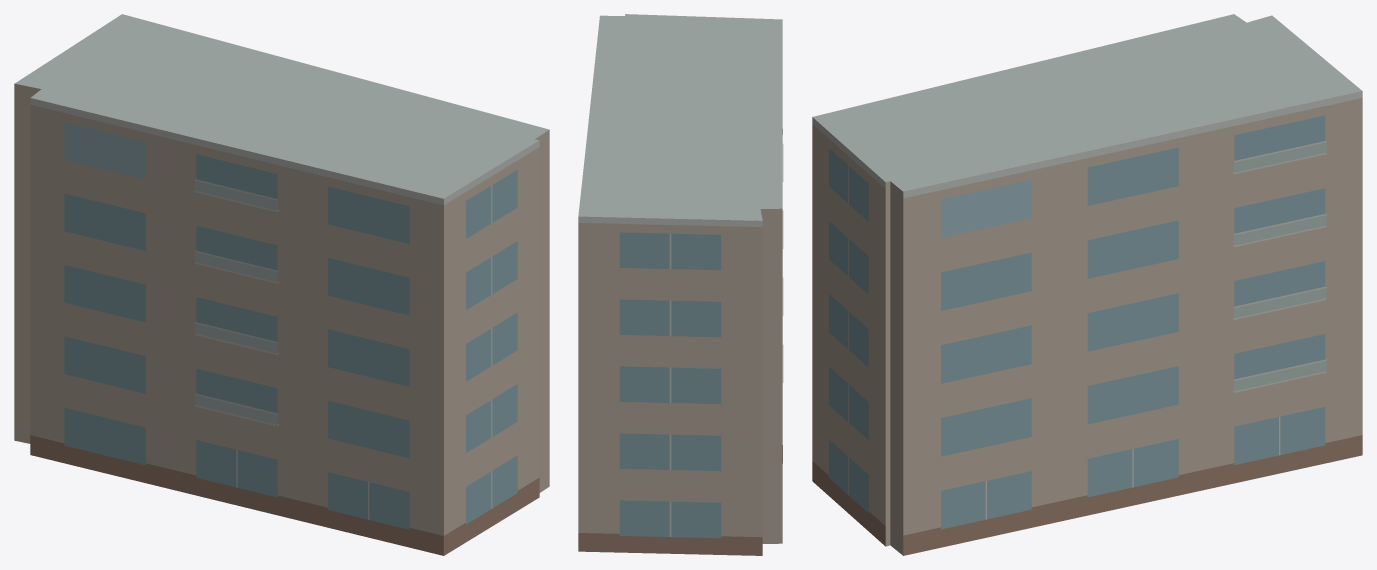
Rendered from survey-upis-32646702.glb.
3 views of the same model, side by side, from view 1: azimuth 30°, elevation 25°; view 2: azimuth 150°, elevation 25°; view 3: azimuth 270°, elevation 25° (orthographic). The views are drawn at different scales.
Visible parts, largest first — view 1: survey-upis-32646702.tmp; view 2: survey-upis-32646702.tmp; view 3: survey-upis-32646702.tmp.
Part boxes in pixels (x1,y1,x2,y2): survey-upis-32646702.tmp: (14,14,549,555); survey-upis-32646702.tmp: (578,14,783,555); survey-upis-32646702.tmp: (812,14,1362,555).
Size of the model in its own units: 13.61 by 13 by 17.81.
